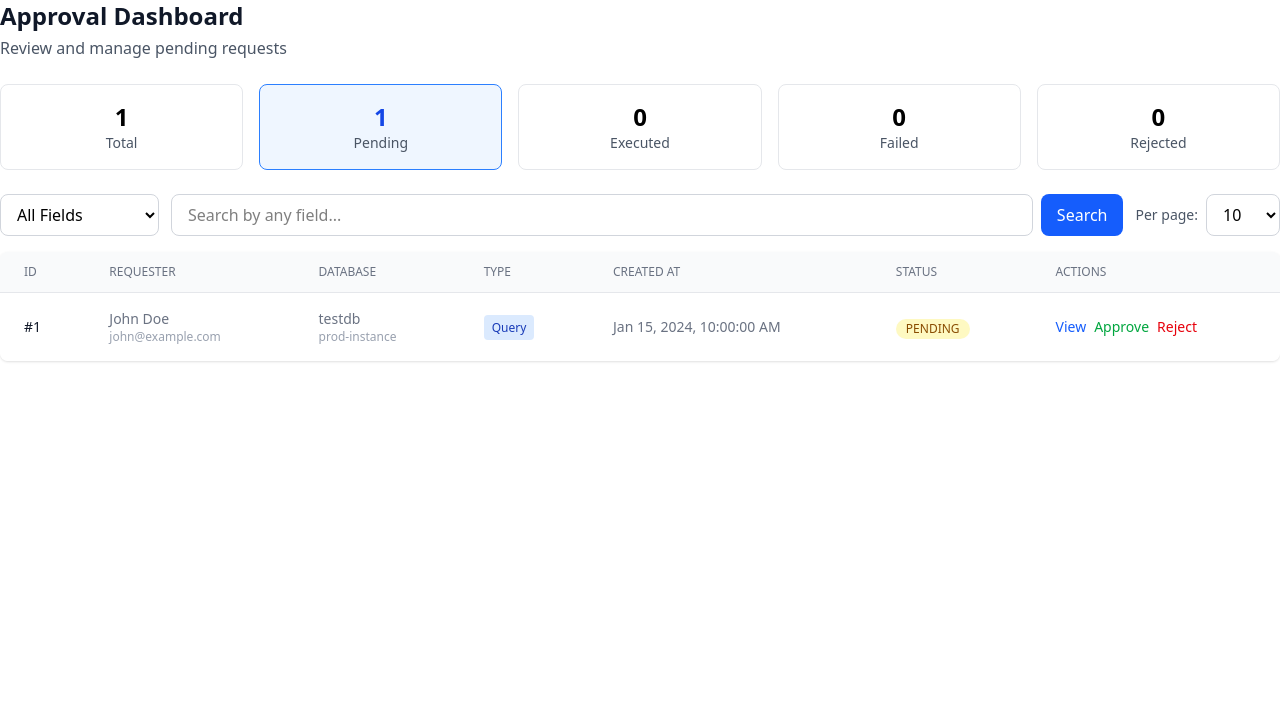
Test: ApprovalDashboard › should open approve confirmation modal
The width and height of the screenshot is (1280, 720).
Click the button "Approve".
click(1122, 327)  # box 1094,317 -> 1149,337
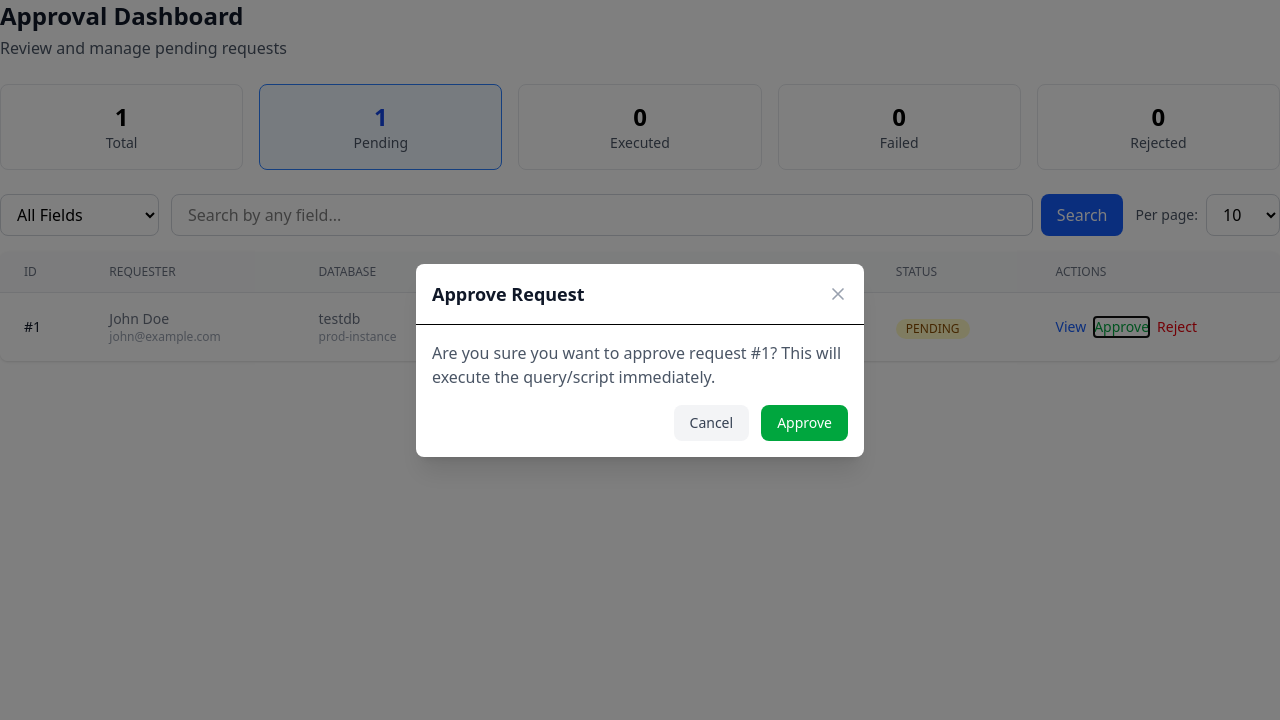
Result: the text "Are you sure you want to approve" is shown at 432,342 -> 841,388
